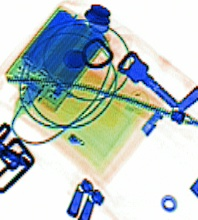powerbank: (3, 3, 111, 114)
